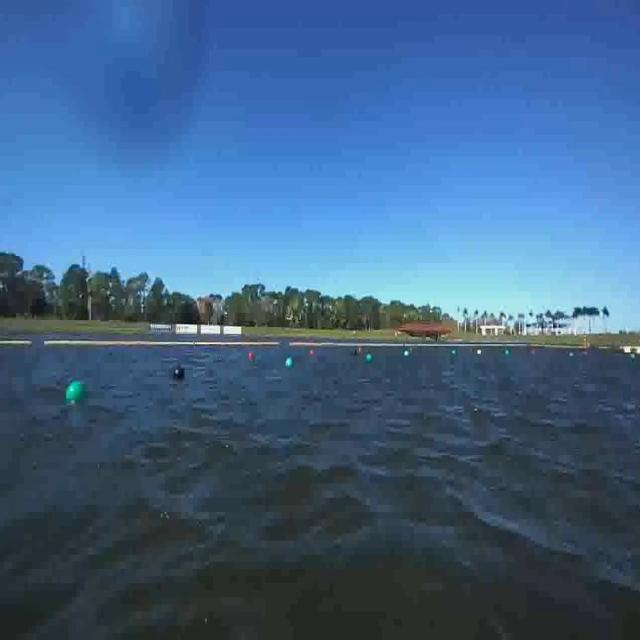black-buoy: (173, 365, 186, 380)
green-buoy: (67, 379, 90, 402), (286, 356, 294, 368), (366, 354, 372, 363)
